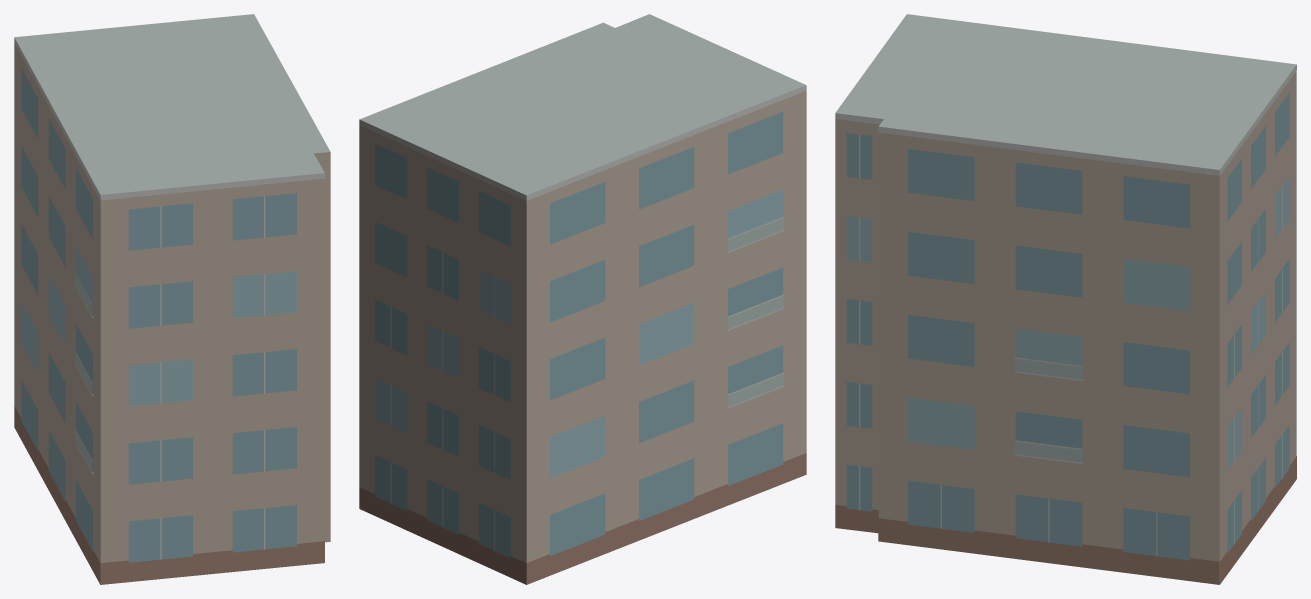
The model's file is survey-upis-32987281.glb.
The picture shows the model from 3 angles, left to right: view 1: azimuth 30°, elevation 25°; view 2: azimuth 150°, elevation 25°; view 3: azimuth 270°, elevation 25°; orthographic projection. The views are drawn at different scales.
Parts seen in each view (by area): view 1: survey-upis-32987281.tmp; view 2: survey-upis-32987281.tmp; view 3: survey-upis-32987281.tmp.
Part boxes in pixels (<box>): survey-upis-32987281.tmp: <box>14,14,330,584</box>; survey-upis-32987281.tmp: <box>359,14,806,584</box>; survey-upis-32987281.tmp: <box>835,14,1296,584</box>.
Size of the model in its own units: 13.89 by 17.2 by 17.35.
